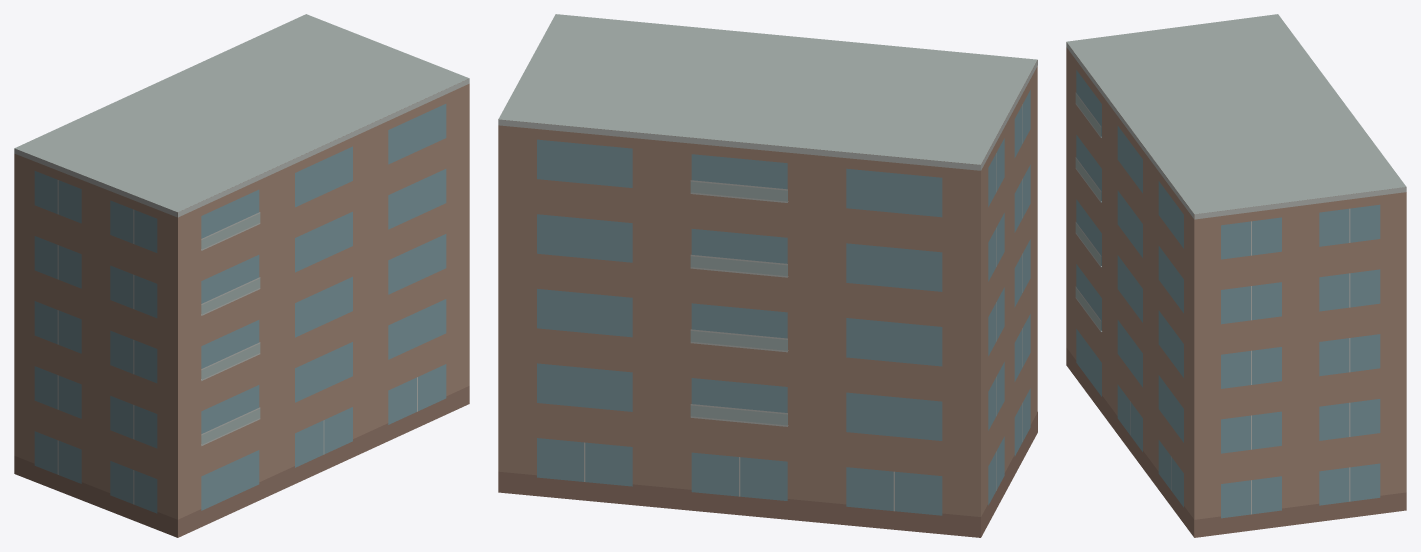
The model's file is survey-upis-32769741.glb.
The picture shows the model from 3 angles, left to right: view 1: azimuth 30°, elevation 25°; view 2: azimuth 150°, elevation 25°; view 3: azimuth 270°, elevation 25°; orthographic projection. The views are drawn at different scales.
Visible parts, largest first — view 1: survey-upis-32769741.tmp; view 2: survey-upis-32769741.tmp; view 3: survey-upis-32769741.tmp.
Boxes of the visible parts, <box> form: survey-upis-32769741.tmp: <box>14,14,469,537</box>; survey-upis-32769741.tmp: <box>498,14,1037,537</box>; survey-upis-32769741.tmp: <box>1066,14,1406,537</box>.
Bounding box in the file's own units: 20.27 × 15.25 × 14.55.
